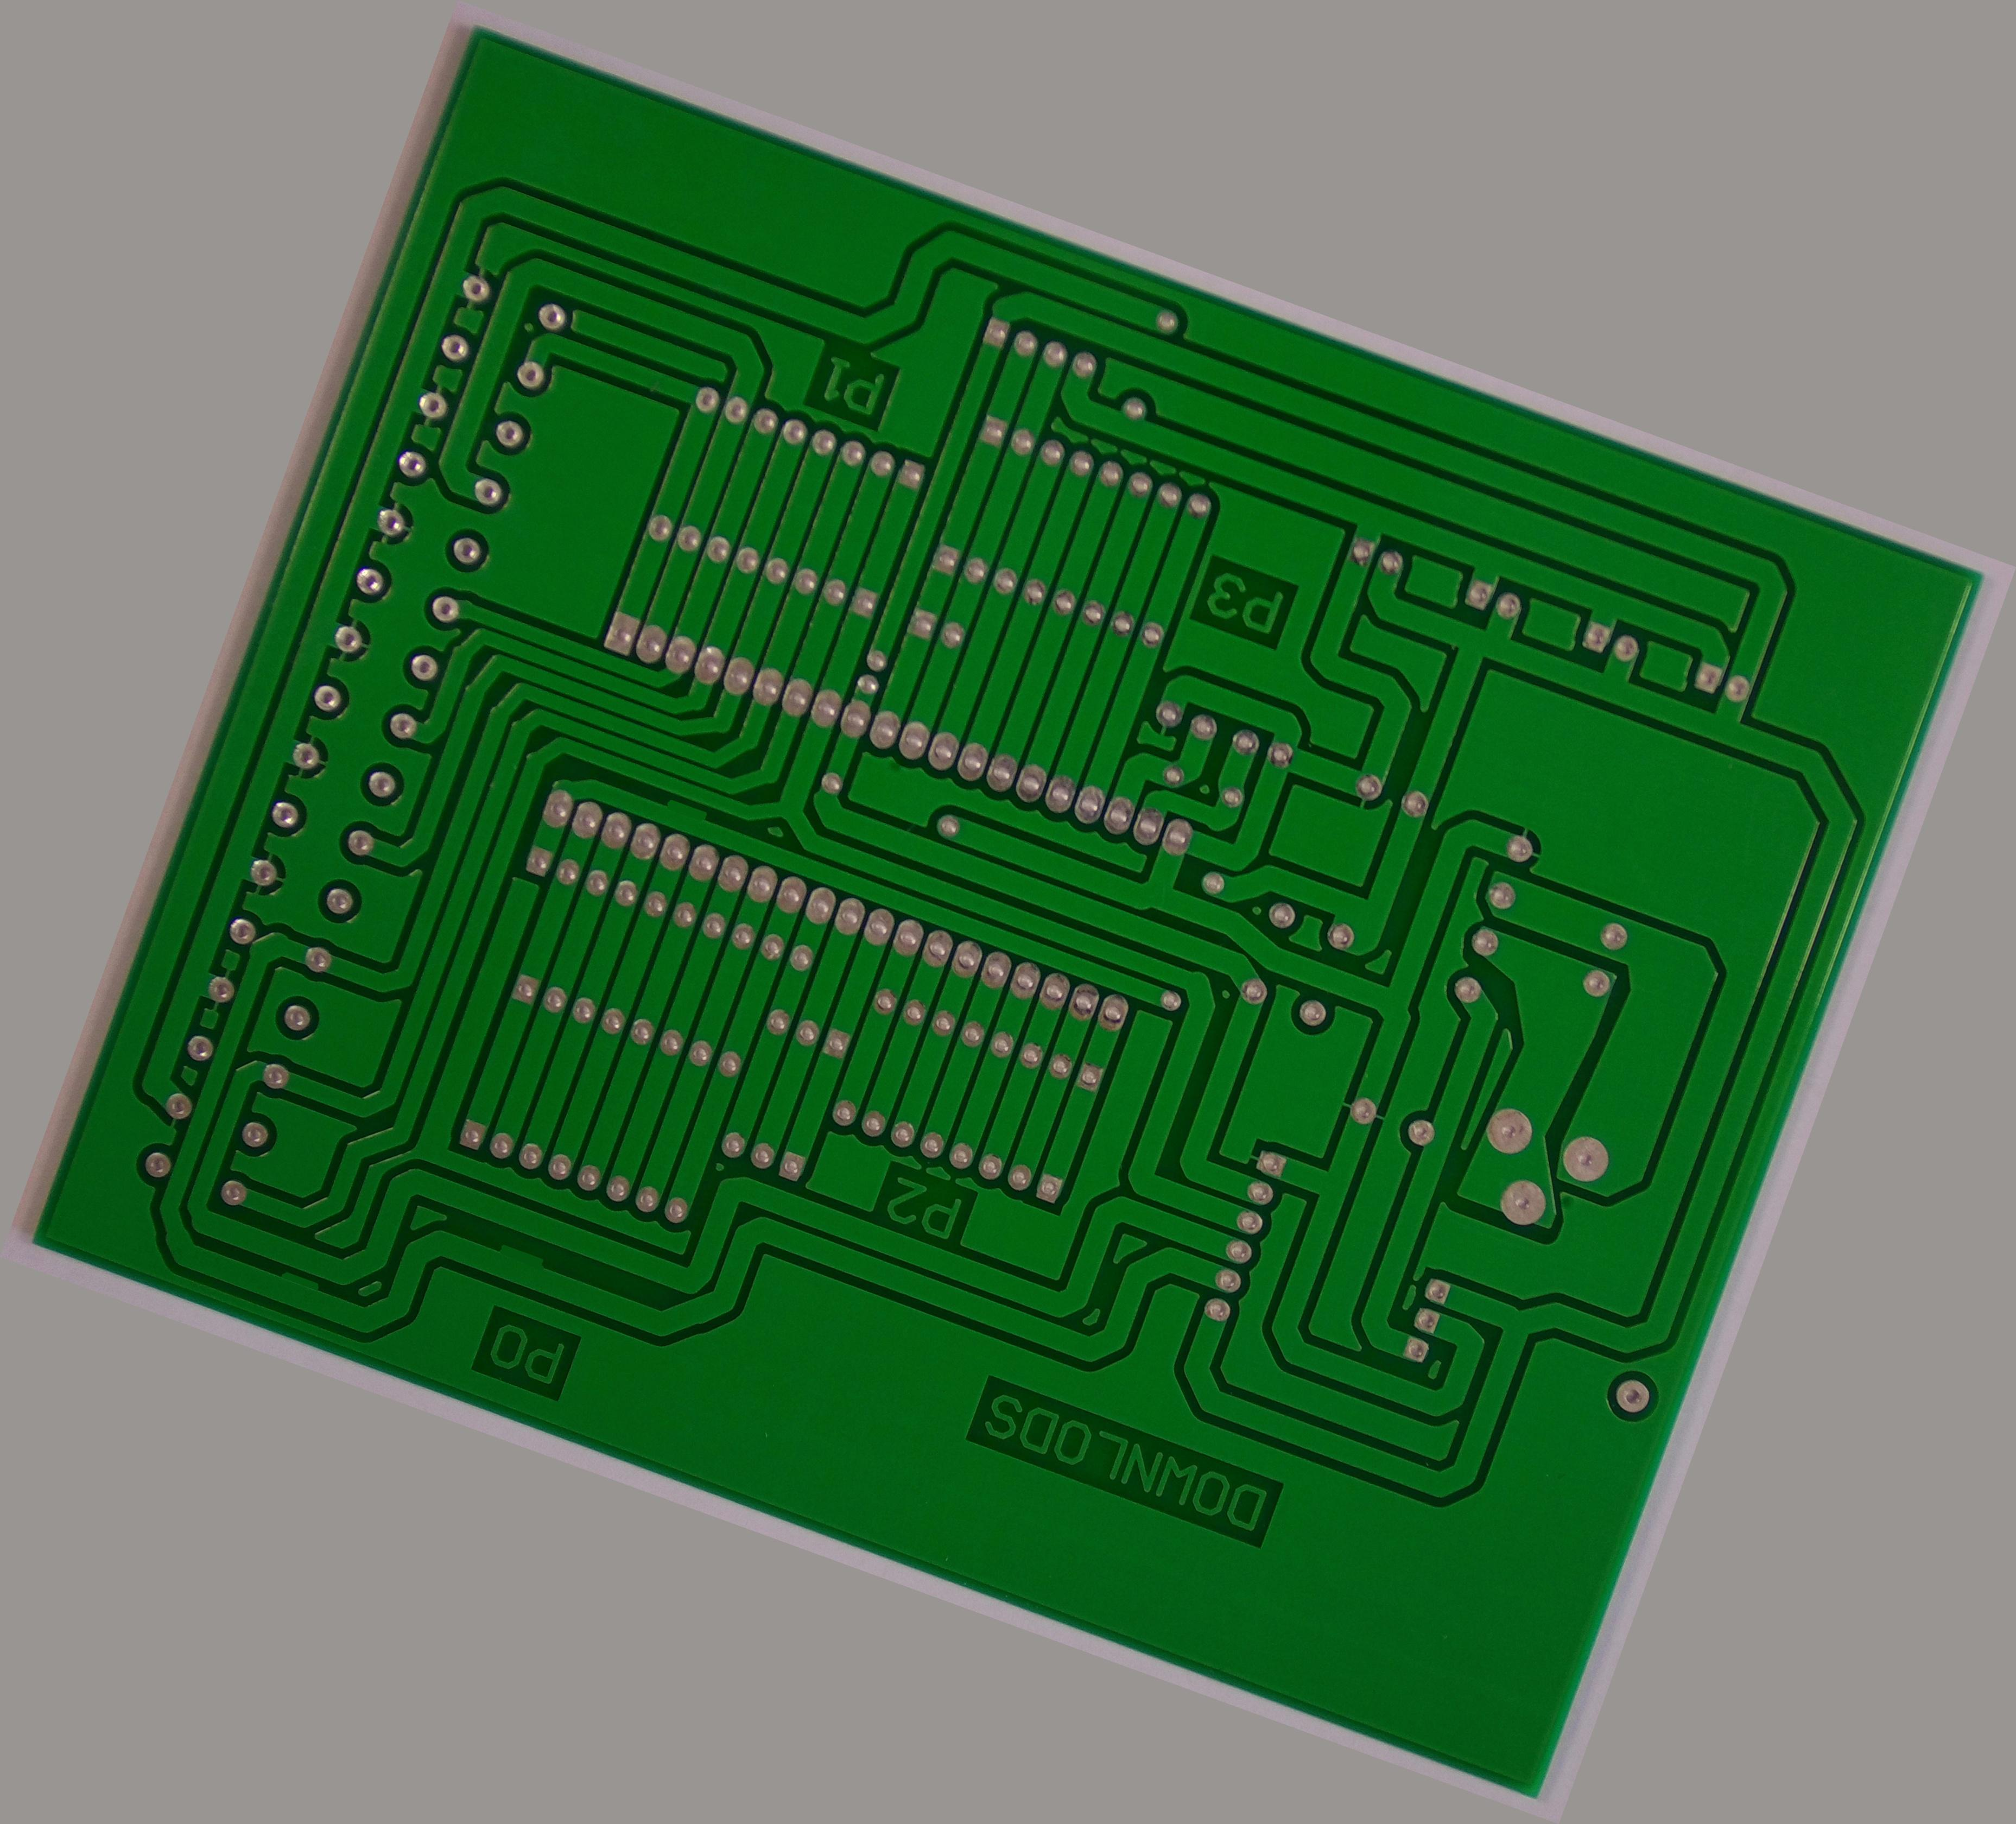spur: (481, 1231, 560, 1280), (653, 788, 718, 834), (270, 1262, 330, 1304)
